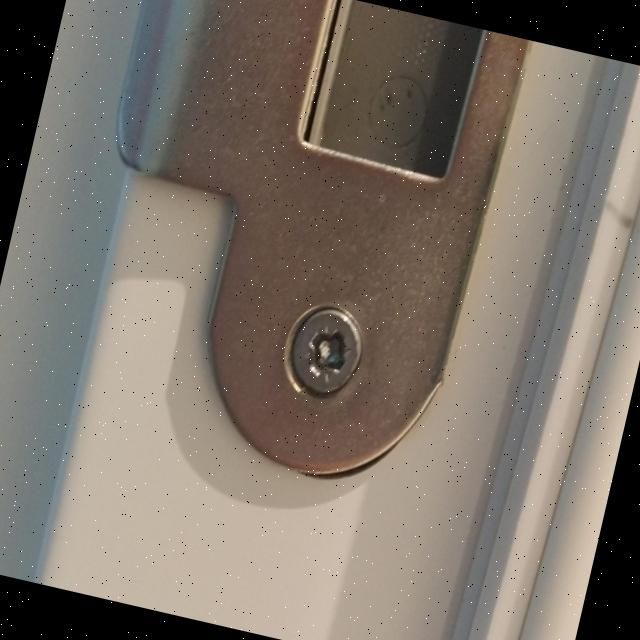Pozidriv: (270, 294, 380, 416)
